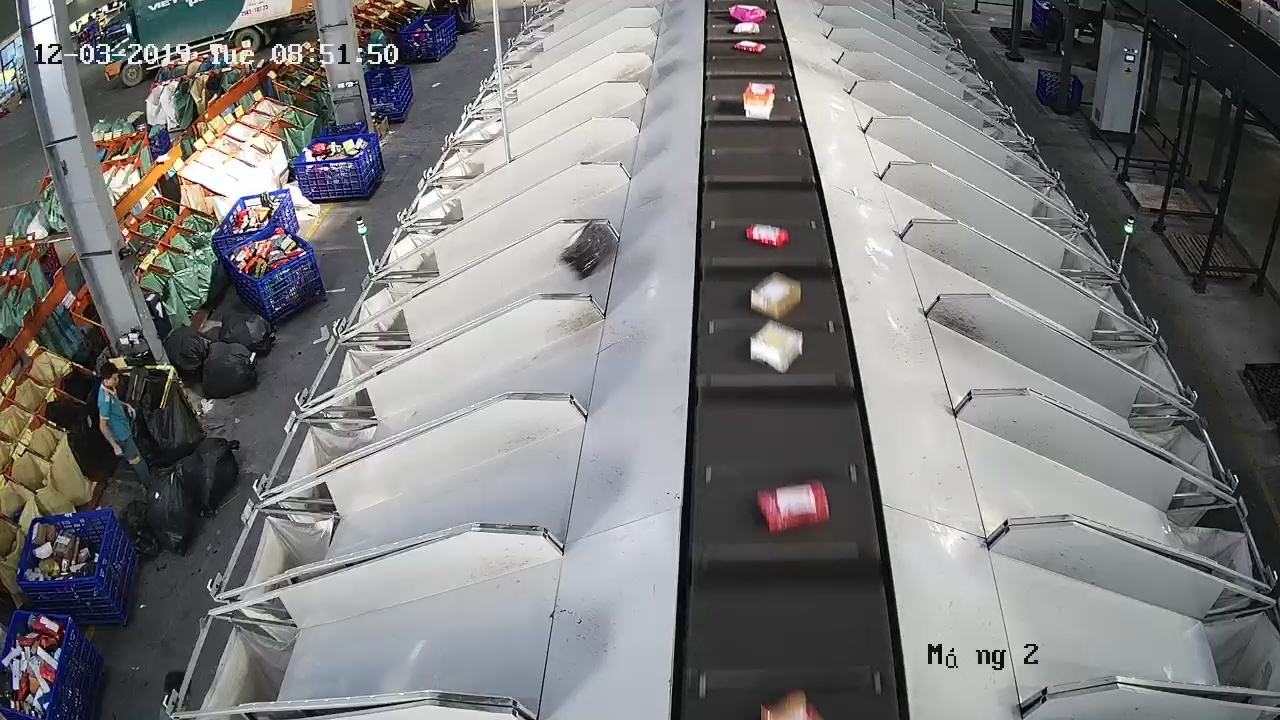parcel: (556, 222, 609, 280)
